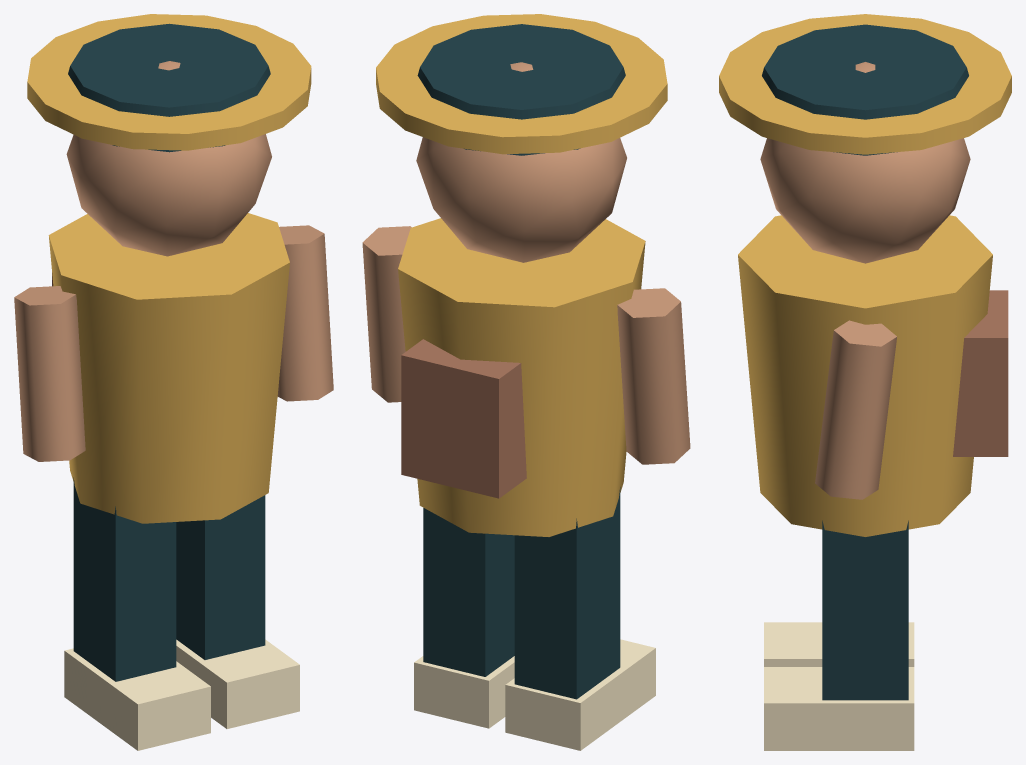
Rendered from guest_c.glb.
The picture shows the model from 3 angles, left to right: view 1: azimuth 30°, elevation 25°; view 2: azimuth 150°, elevation 25°; view 3: azimuth 270°, elevation 25°; orthographic projection. The views are drawn at different scales.
Parts seen in each view (by area): view 1: guest_c; view 2: guest_c; view 3: guest_c.
Part boxes in pixels (x1=…): guest_c: x1=14, y1=14, x2=333, y2=750; guest_c: x1=362, y1=14, x2=690, y2=750; guest_c: x1=719, y1=14, x2=1011, y2=750.
Bounding box in the file's own units: 0.9272 × 1.9 × 0.78.
